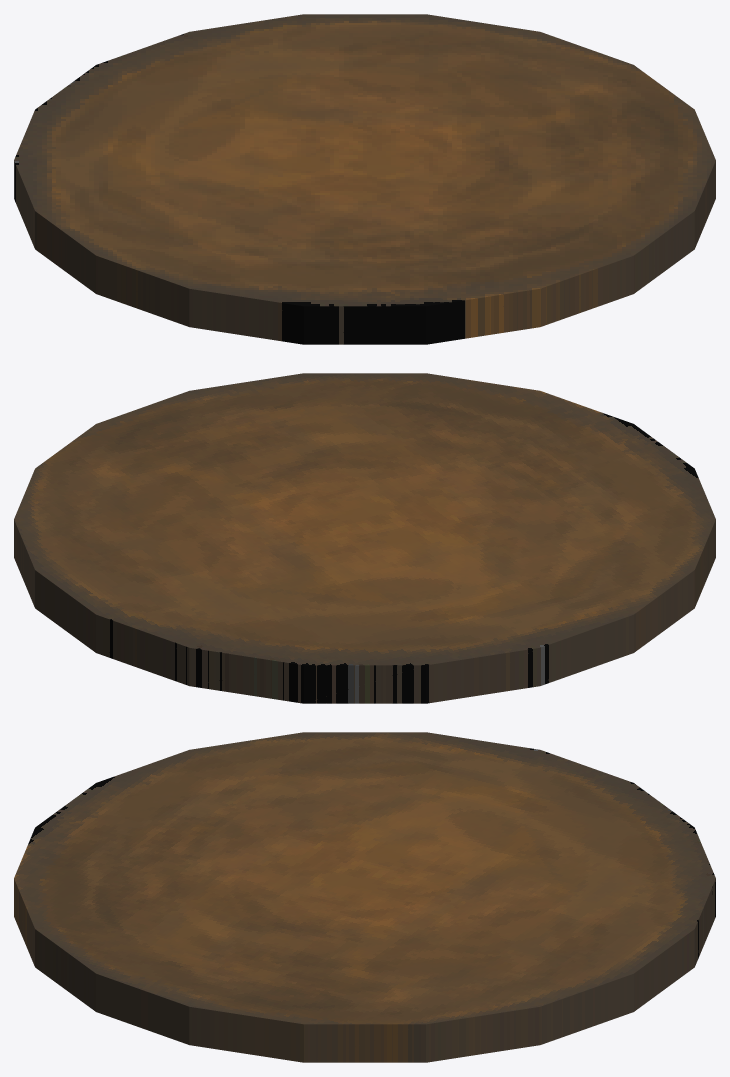
The model's file is suncenter.glb.
3 views of the same model, one above another, from view 1: azimuth 30°, elevation 25°; view 2: azimuth 150°, elevation 25°; view 3: azimuth 270°, elevation 25° (orthographic).
Visible parts, largest first — view 1: sun-center; view 2: sun-center; view 3: sun-center.
Boxes of the visible parts, x1=… form: sun-center: x1=14, y1=14, x2=715, y2=344; sun-center: x1=14, y1=373, x2=715, y2=703; sun-center: x1=14, y1=732, x2=715, y2=1062.
Size of the model in its own units: 0.9532 by 0.0584 by 0.9678.
1 material, 1 textured.
